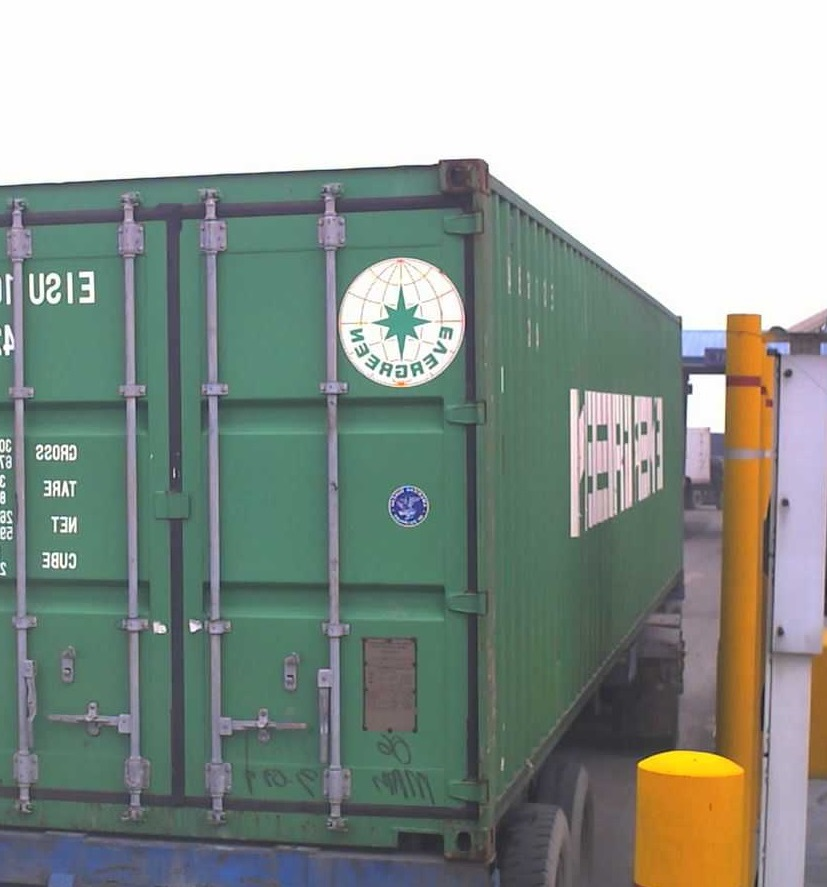container_door: (2, 168, 493, 857)
